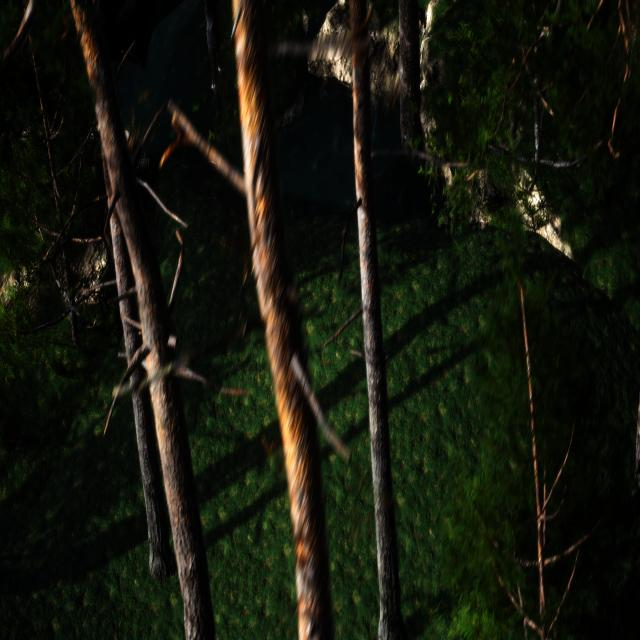Human: (202, 0, 224, 106)
